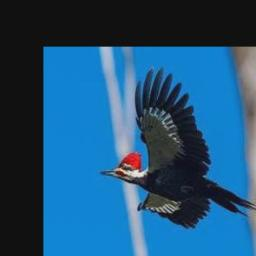Woodpecker: (101, 66, 256, 228)
